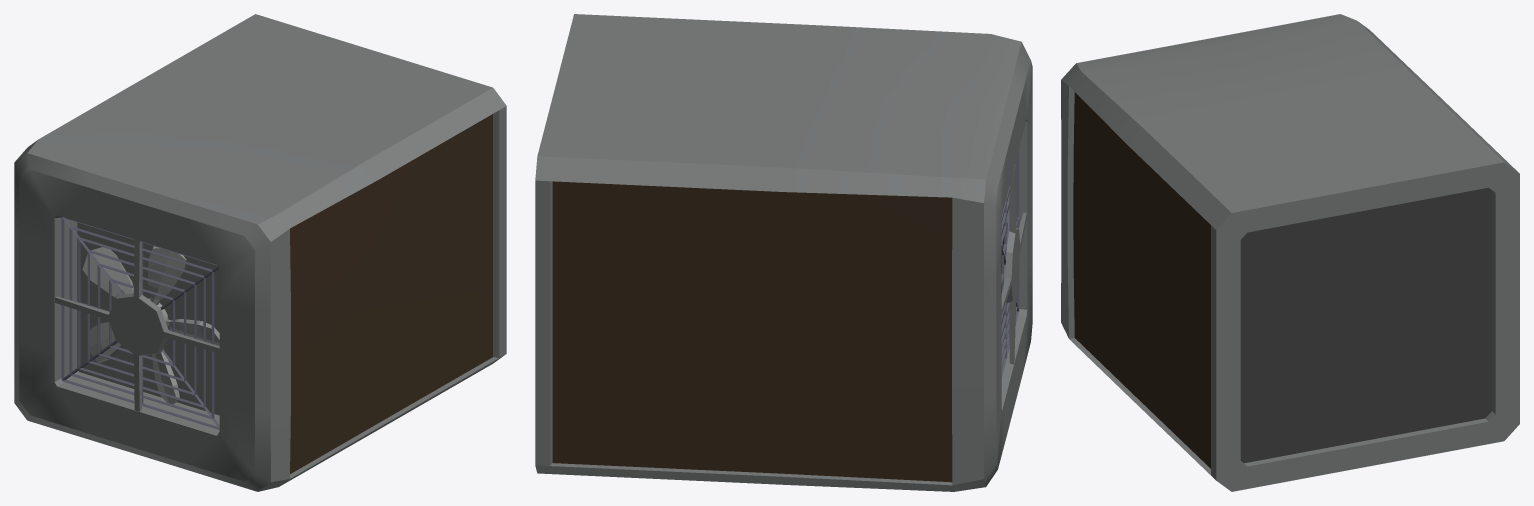
File: Fonte.fbx
The picture shows the model from 3 angles, left to right: view 1: azimuth 30°, elevation 25°; view 2: azimuth 150°, elevation 25°; view 3: azimuth 270°, elevation 25°; orthographic projection. The views are drawn at different scales.
Visible parts, largest first — view 1: Fonte, Ventuinha; view 2: Fonte; view 3: Fonte.
Boxes of the visible parts, x1=… form: Fonte: x1=14, y1=14, x2=506, y2=491; Ventuinha: x1=82, y1=246, x2=219, y2=404; Fonte: x1=535, y1=14, x2=1032, y2=491; Fonte: x1=1061, y1=14, x2=1519, y2=491.
Bounding box in the file's own units: 26.8 × 16.57 × 24.7.
